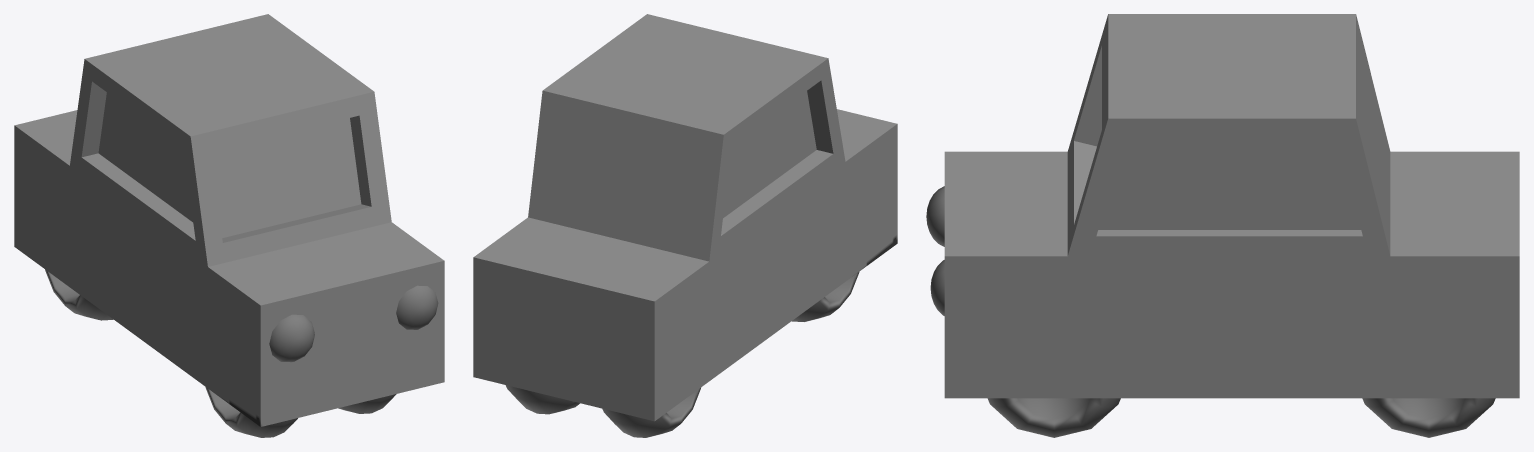
The model's file is Coche02.fbx.
3 renders of one model, left to right at view 1: azimuth 30°, elevation 25°; view 2: azimuth 150°, elevation 25°; view 3: azimuth 270°, elevation 25°, orthographic. The views are drawn at different scales.
Visible parts, largest first — view 1: deco_low_pCube8; view 2: deco_low_pCube8; view 3: deco_low_pCube8.
Boxes of the visible parts, box(x1,y1,x2,y2) form: deco_low_pCube8: box(14, 14, 444, 437); deco_low_pCube8: box(473, 14, 897, 437); deco_low_pCube8: box(926, 14, 1519, 437).
Bounding box in the file's own units: 60.91 × 91.98 × 146.
